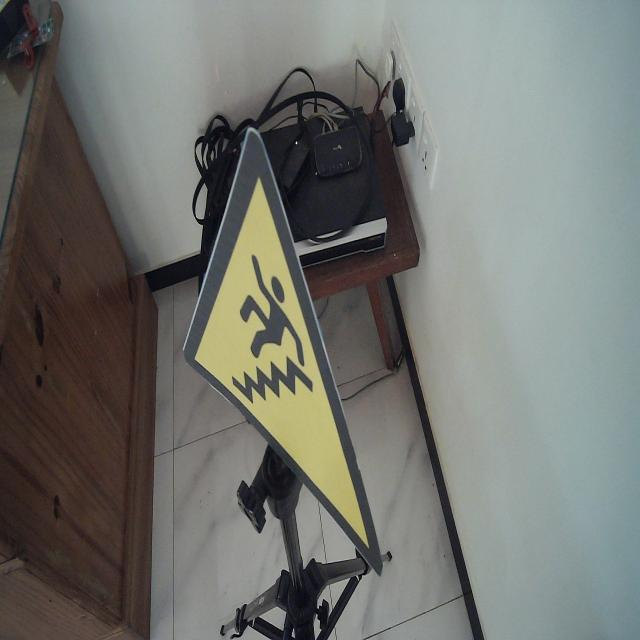stairs: (182, 126, 384, 582)
